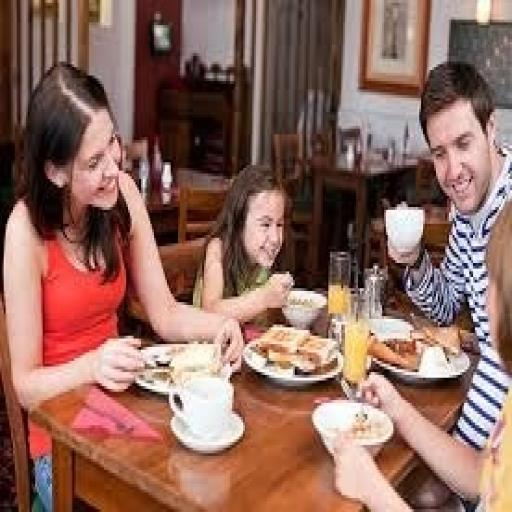eating: (2, 48, 508, 506)
